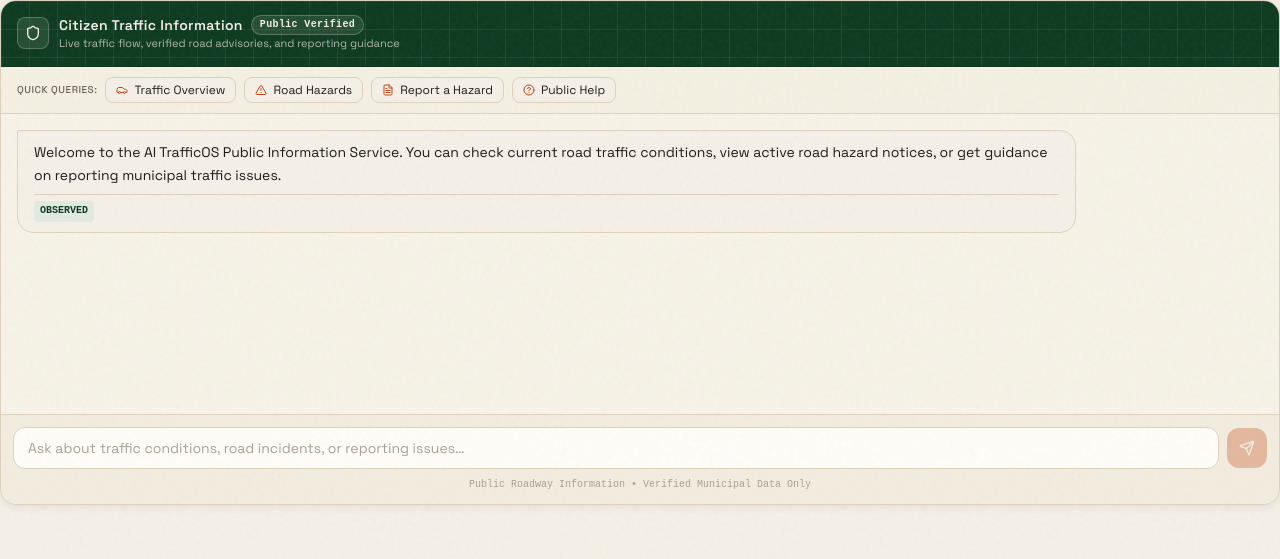
Test case: CitizenChatWidget Component (citizen-chat.test.tsx) › displays honest authentication required banner on 401 response
Replace the text in the field with test id "citizen-chat-input" with "Check traffic" at (616, 448), box [13,427,1219,469]
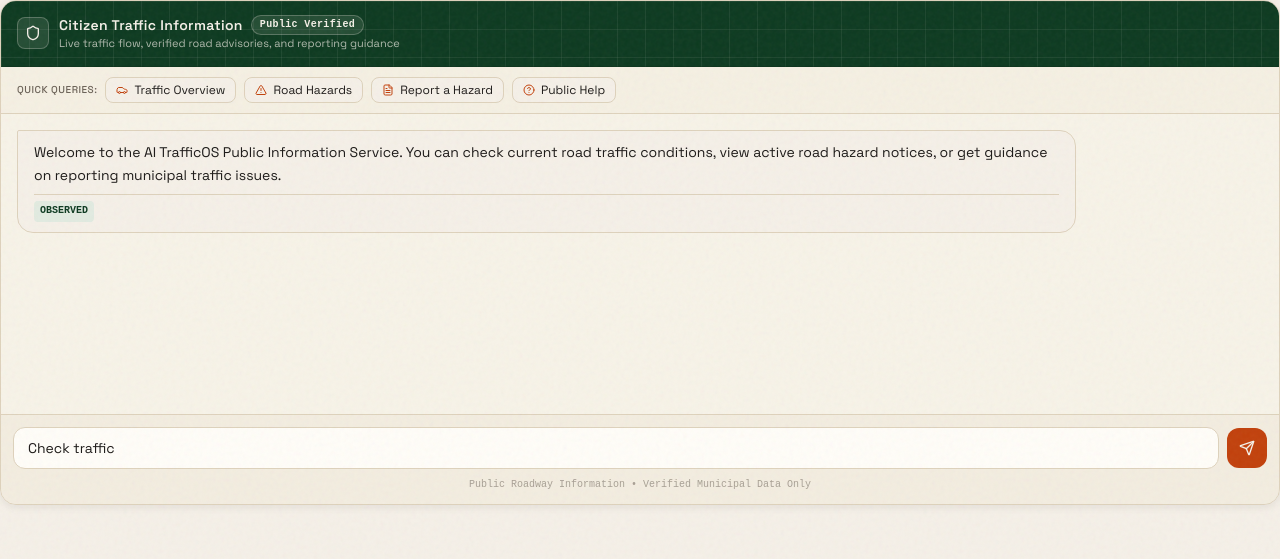
Click the button with test id "citizen-send-button".
click(1247, 448)  # box [1227,428,1267,468]
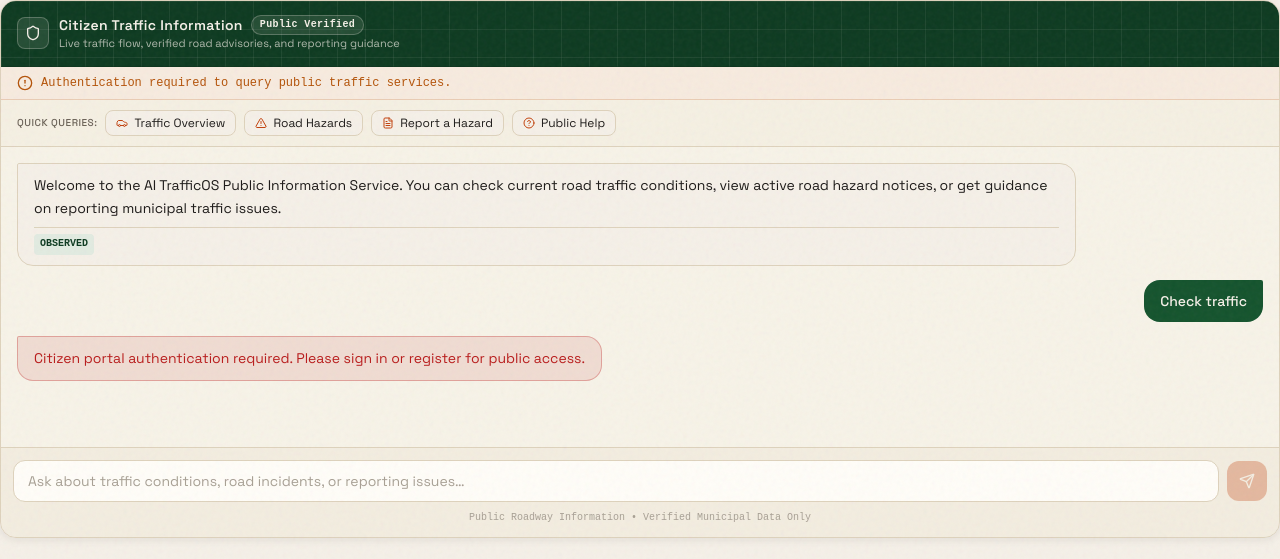
Now the element with test id "citizen-auth-banner" is shown, box [1,67,1279,100]
Now the text "Citizen portal authentication required" is shown, box [34,349,585,367]
